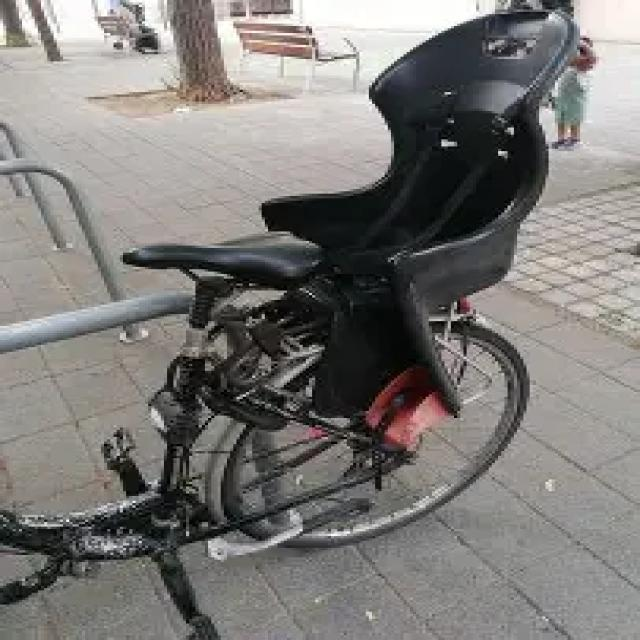childseat: (281, 6, 582, 470)
